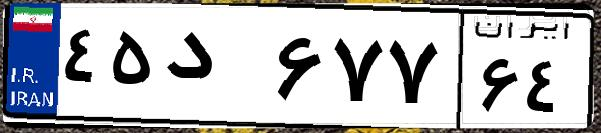4: (57, 26, 110, 100), (525, 38, 570, 115)
5: (110, 28, 158, 98)
6: (270, 28, 330, 110), (475, 38, 525, 113)
7: (385, 28, 445, 110), (330, 28, 385, 110)
د: (158, 20, 270, 120)
